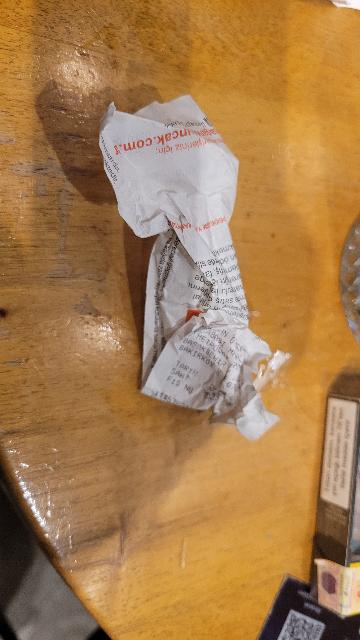Kagit: (89, 91, 294, 452)
